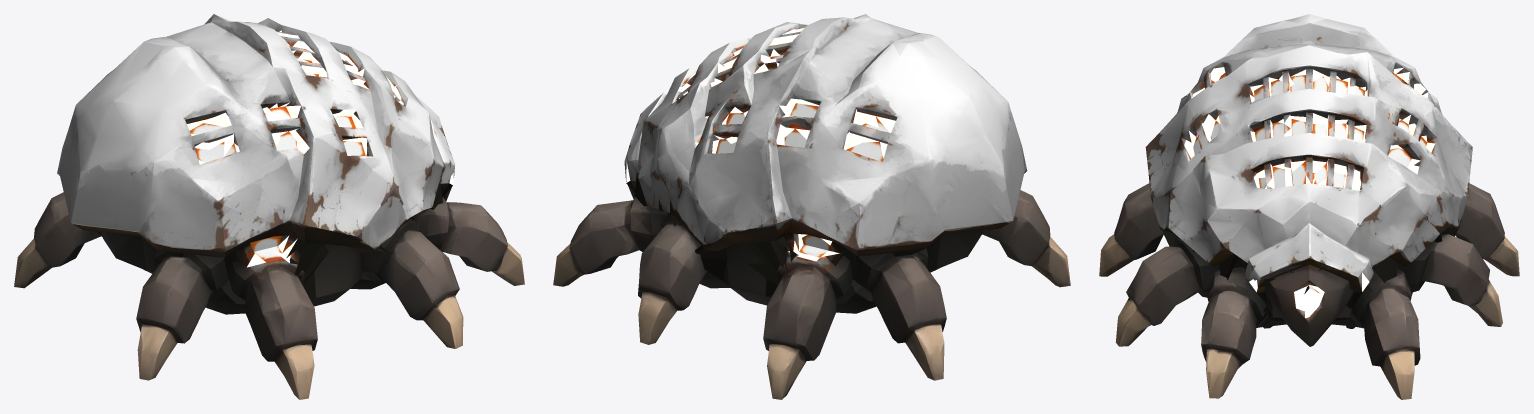
The model's file is kiln_beetle.glb.
The picture shows the model from 3 angles, left to right: view 1: azimuth 30°, elevation 25°; view 2: azimuth 150°, elevation 25°; view 3: azimuth 270°, elevation 25°; orthographic projection. The views are drawn at different scales.
Parts seen in each view (by area): view 1: shell, body, leg_r4_u, leg_r2_u, leg_r3_u, leg_l4_u, leg_r1_u, leg_r3_l, leg_r2_l, leg_r4_l, leg_r1_l, leg_l4_l; view 2: shell, body, leg_l4_u, leg_l2_u, leg_l3_u, leg_l1_u, leg_r4_u, leg_l3_l, leg_l4_l, leg_l1_l, leg_r4_l, leg_l2_l; view 3: shell, head, body, leg_r1_u, leg_l1_u, leg_r2_u, leg_r3_u, leg_l1_l, leg_l3_u, leg_l2_u, leg_r1_l, leg_r2_l (+3 smaller).
Boxes of the visible parts, x1,y1,x2,y2 form: shell: (57,14,455,268); body: (77,207,507,361); leg_r4_u: (136,249,223,343); leg_r2_u: (363,211,459,319); leg_r3_u: (262,238,317,361); leg_l4_u: (29,192,102,267); leg_r1_u: (428,180,505,265); leg_r3_l: (271,345,314,399); leg_r2_l: (417,291,463,348); leg_r4_l: (137,326,177,380); leg_r1_l: (463,225,524,285); leg_l4_l: (14,240,51,288); shell: (624,14,1027,267); body: (569,171,1026,354); leg_l4_u: (856,248,946,343); leg_l2_u: (638,216,721,320); leg_l3_u: (763,233,819,360); leg_l1_u: (578,175,660,262); leg_r4_u: (981,190,1057,266); leg_l3_l: (767,345,813,399); leg_l4_l: (905,326,944,380); leg_l1_l: (553,226,616,286); leg_r4_l: (1032,237,1070,287); leg_l2_l: (638,302,669,344); shell: (1145,14,1472,292); head: (1249,258,1369,346); body: (1149,183,1480,347); leg_r1_u: (1201,254,1275,358); leg_l1_u: (1342,257,1418,349); leg_r2_u: (1126,228,1199,323); leg_r3_u: (1110,183,1163,260); leg_l1_l: (1367,328,1420,399); leg_l3_u: (1455,184,1506,259); leg_l2_u: (1433,220,1497,313); leg_r1_l: (1201,327,1249,398); leg_r2_l: (1115,298,1153,346).
Size of the model in its own units: 1.07 by 0.7 by 1.04.
Materials: 3 (3 with a texture image).
